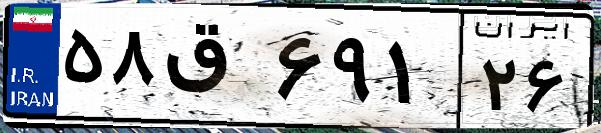1: (385, 28, 445, 110)
2: (475, 38, 525, 113)
5: (57, 26, 110, 100)
6: (270, 28, 330, 110), (525, 38, 570, 115)
8: (110, 28, 158, 98)
9: (330, 28, 385, 110)
ق: (158, 20, 270, 120)
